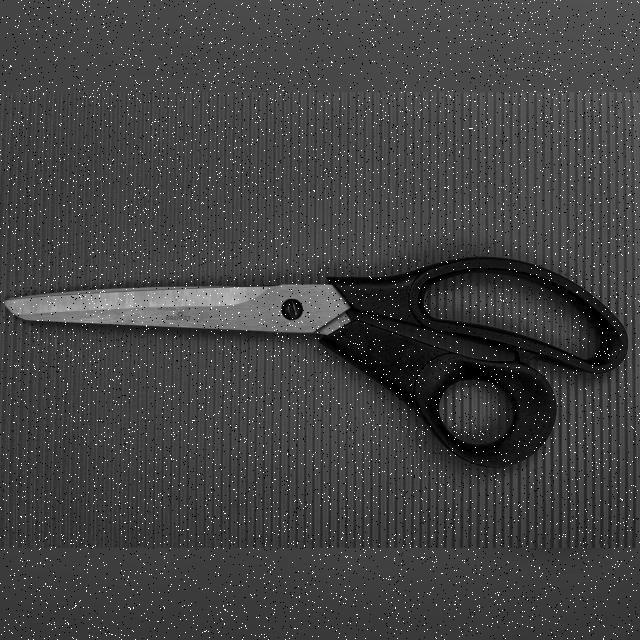scissors: (6, 248, 634, 472)
